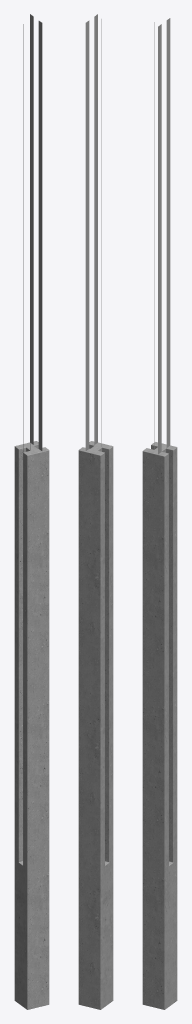
3 views of the same model, side by side, from view 1: azimuth 30°, elevation 25°; view 2: azimuth 150°, elevation 25°; view 3: azimuth 330°, elevation 25° (orthographic).
Parts seen in each view (by area): view 1: Box003; view 2: Box003; view 3: Box003.
Part boxes in pixels (<box>): Box003: <box>14,14,49,1009</box>; Box003: <box>78,14,113,1009</box>; Box003: <box>142,18,177,1009</box>.
Bounding box in the file's own units: 0.12 × 5.05 × 0.12.
1 material, 1 textured.
